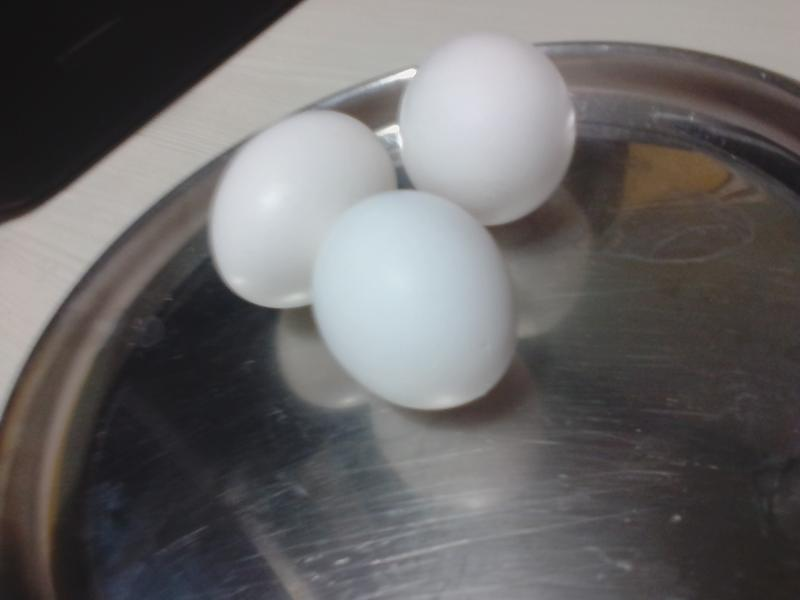egg: (317, 192, 517, 408)
